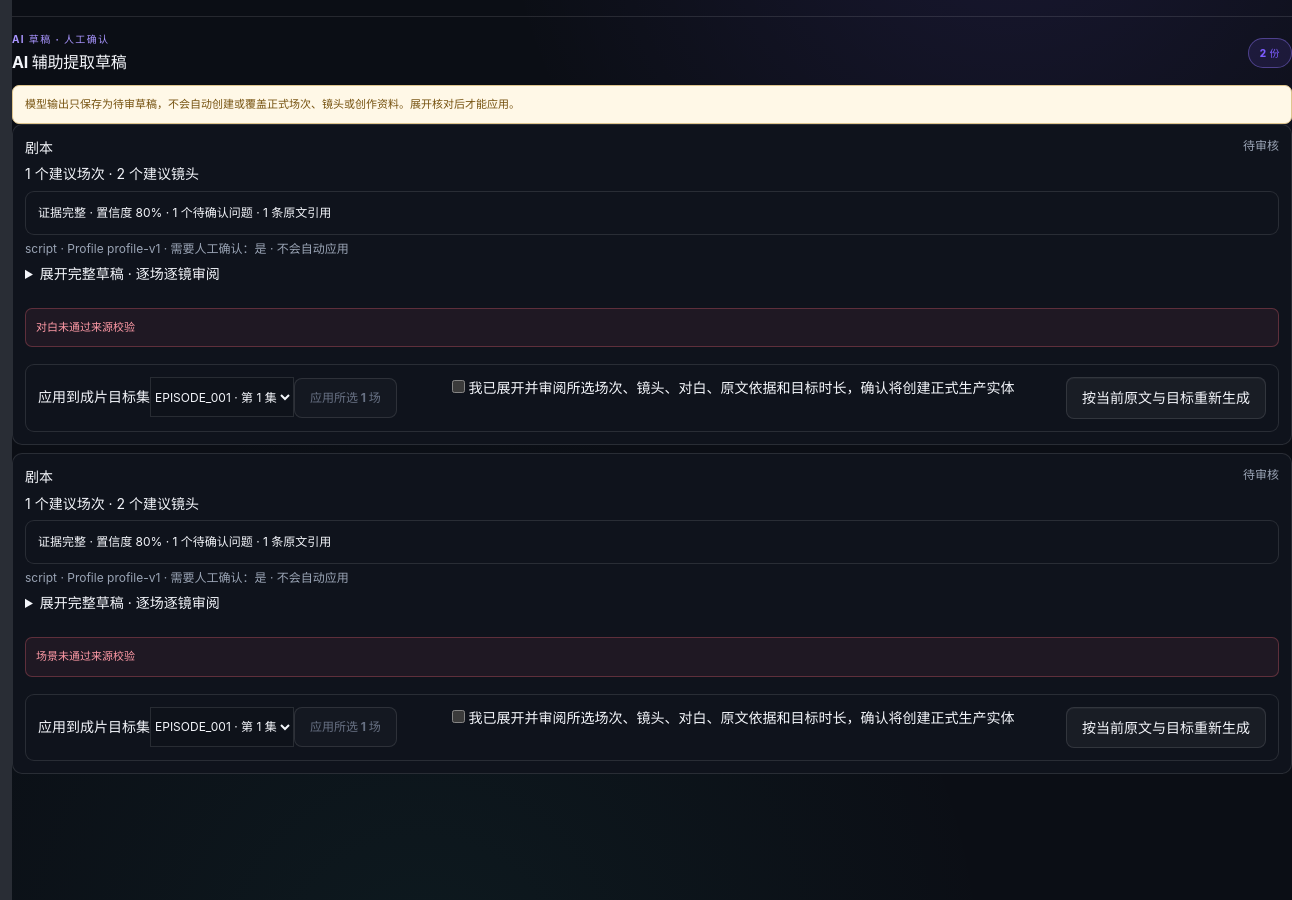
Test case: AIDraftReviewPanel › queues a new Job from the blocked draft without reimporting the source
The width and height of the screenshot is (1292, 900).
What coordinates should you click on to do the following:
click the 1st button "按当前原文与目标重新生成"
I would click on:
 (1166, 398)
Its box is [1066,377,1266,419].
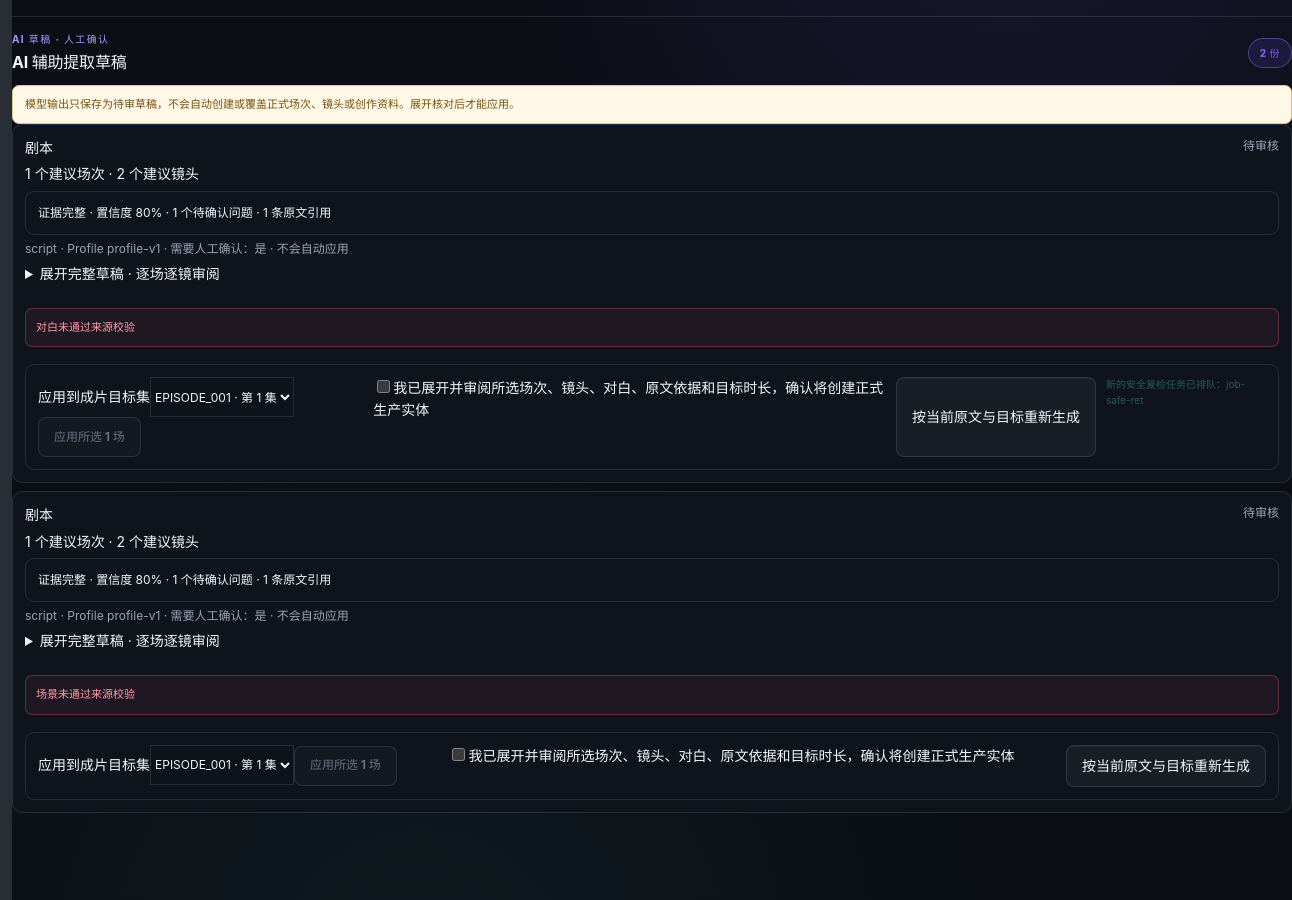
expect the text "新的安全复检任务已排队：job-safe-ret" is shown: met, box [1106,378,1245,406]
expect the text "新的安全复检任务已排队：job-safe-ret" is shown once: met, box [1106,378,1245,406]
